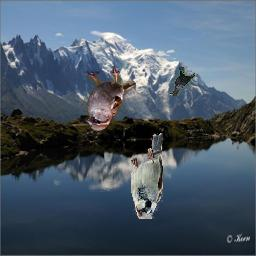Crow: (169, 68, 195, 97)
Sparrow: (84, 67, 136, 132), (131, 133, 163, 219)
